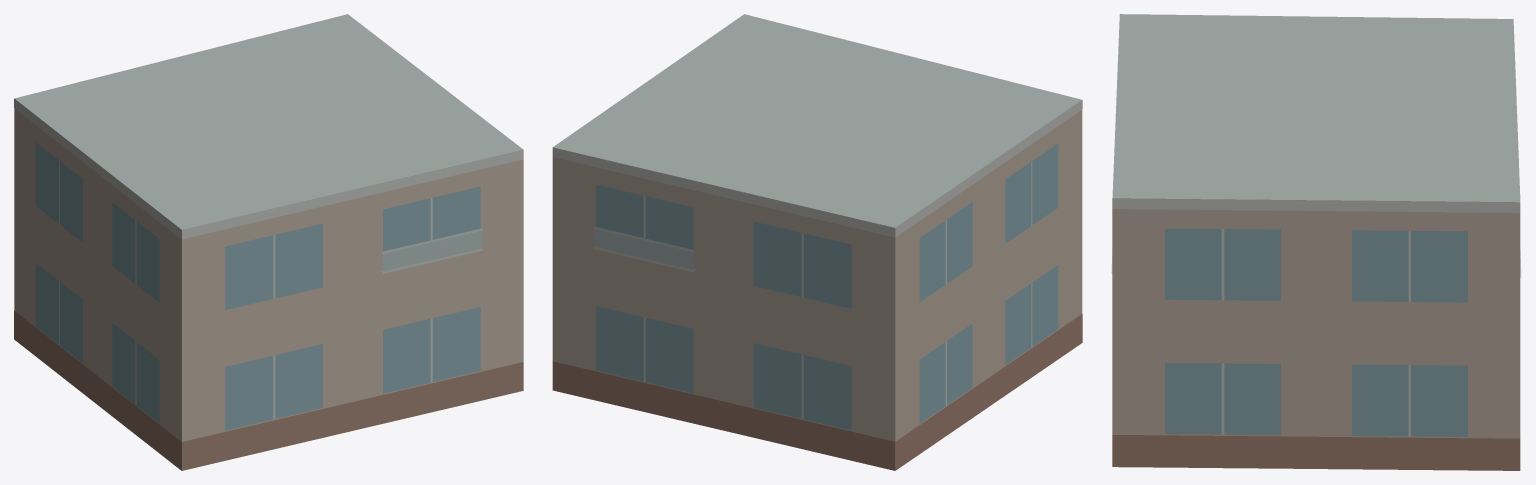
The model's file is survey-upis-32499931.glb.
3 renders of one model, left to right at view 1: azimuth 30°, elevation 25°; view 2: azimuth 150°, elevation 25°; view 3: azimuth 270°, elevation 25°, orthographic. The views are drawn at different scales.
Parts seen in each view (by area): view 1: survey-upis-32499931.tmp; view 2: survey-upis-32499931.tmp; view 3: survey-upis-32499931.tmp.
Boxes of the visible parts, x1=… form: survey-upis-32499931.tmp: x1=14, y1=14, x2=523, y2=470; survey-upis-32499931.tmp: x1=552, y1=14, x2=1082, y2=470; survey-upis-32499931.tmp: x1=1111, y1=14, x2=1521, y2=470.
Bounding box in the file's own units: 9.17 × 6.1 × 8.44.
